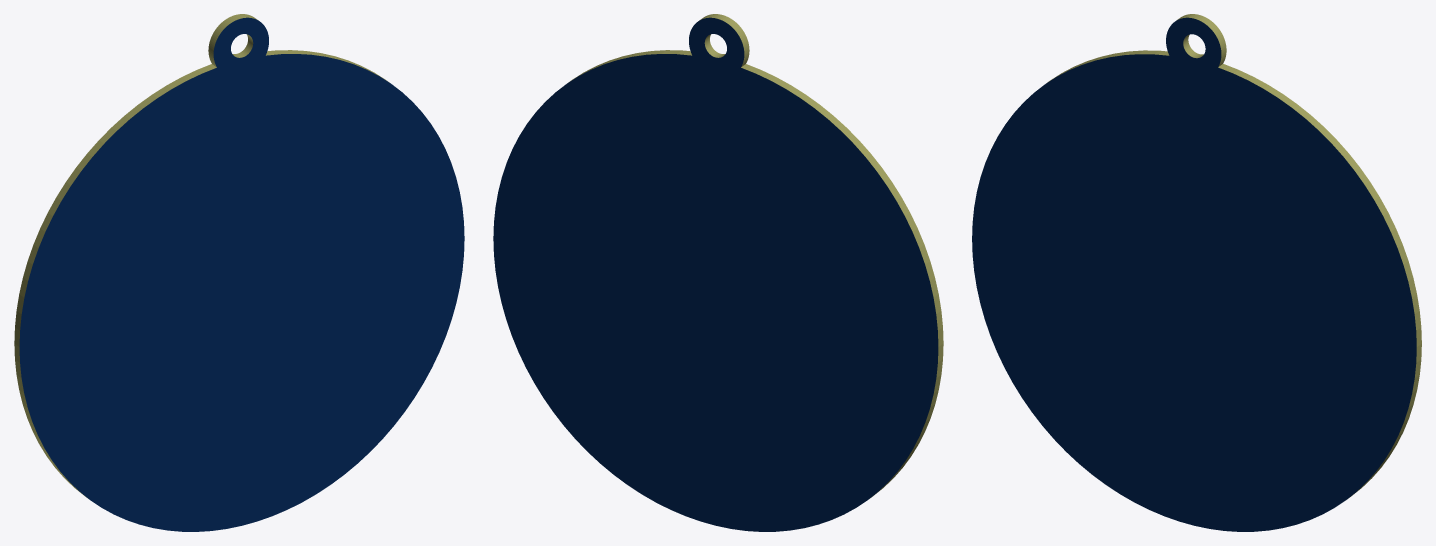
Rendered from 3D_PCB1_2025-12-14.obj.
3 views of the same model, side by side, from view 1: azimuth 30°, elevation 25°; view 2: azimuth 150°, elevation 25°; view 3: azimuth 330°, elevation 25° (orthographic).
Size of the model in its own units: 79.97 by 87.14 by 1.6.
